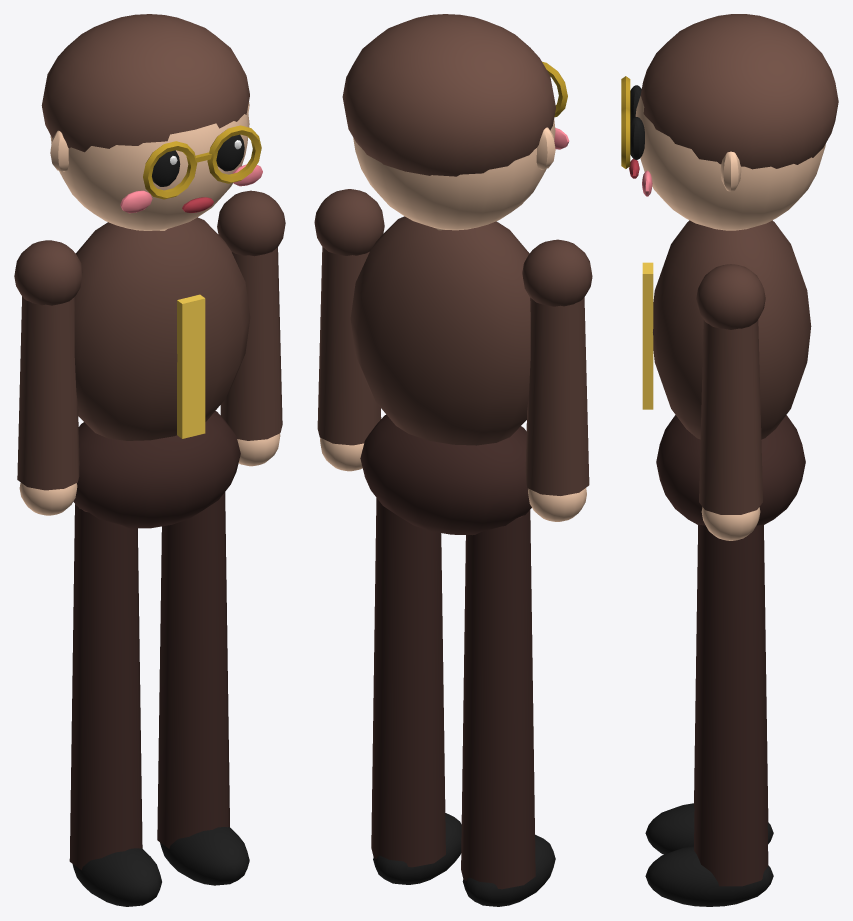
File: law_lawyer.glb
3 renders of one model, left to right at view 1: azimuth 30°, elevation 25°; view 2: azimuth 150°, elevation 25°; view 3: azimuth 270°, elevation 25°, orthographic. The views are drawn at different scales.
Visible parts, largest first — view 1: Body.003, Leg_R.002, Leg_L.002, Arm_R.002, Arm_L.002; view 2: Body.003, Leg_R.002, Leg_L.002, Arm_R.002, Arm_L.002; view 3: Body.003, Leg_L.002, Arm_L.002, Leg_R.002.
Part boxes in pixels (x1,y1,x2,y2): Body.003: (41, 14, 262, 528); Leg_R.002: (69, 504, 161, 906); Leg_L.002: (157, 492, 249, 885); Arm_R.002: (14, 240, 82, 515); Arm_L.002: (217, 190, 285, 466); Body.003: (342, 14, 569, 535); Leg_R.002: (461, 510, 555, 906); Leg_L.002: (371, 498, 461, 884); Arm_R.002: (522, 239, 592, 521); Arm_L.002: (314, 189, 384, 471); Body.003: (621, 14, 838, 525); Leg_L.002: (645, 524, 773, 906); Arm_L.002: (696, 264, 765, 540); Leg_R.002: (645, 525, 773, 854).
Bounding box in the file's own units: 0.57 × 1.76 × 0.4067.
